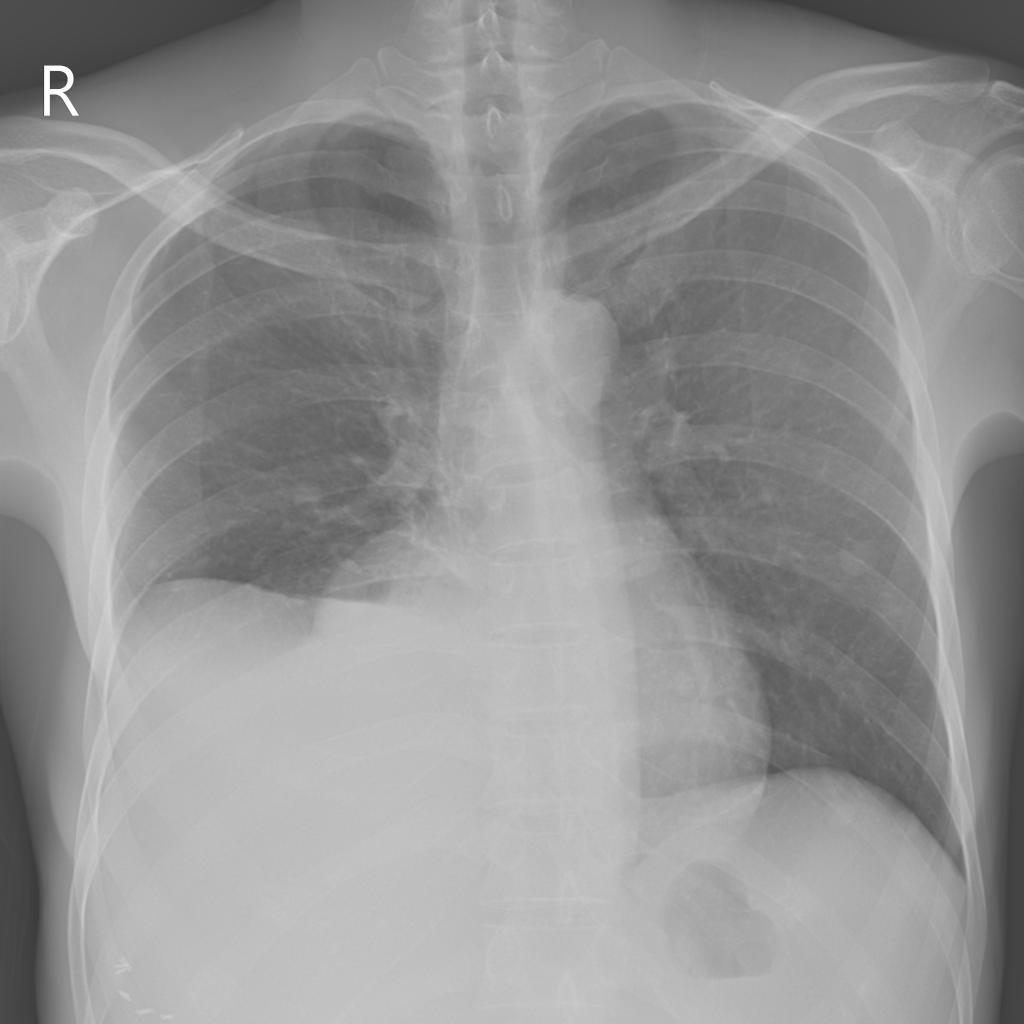Nodule: (836, 538, 881, 576)
